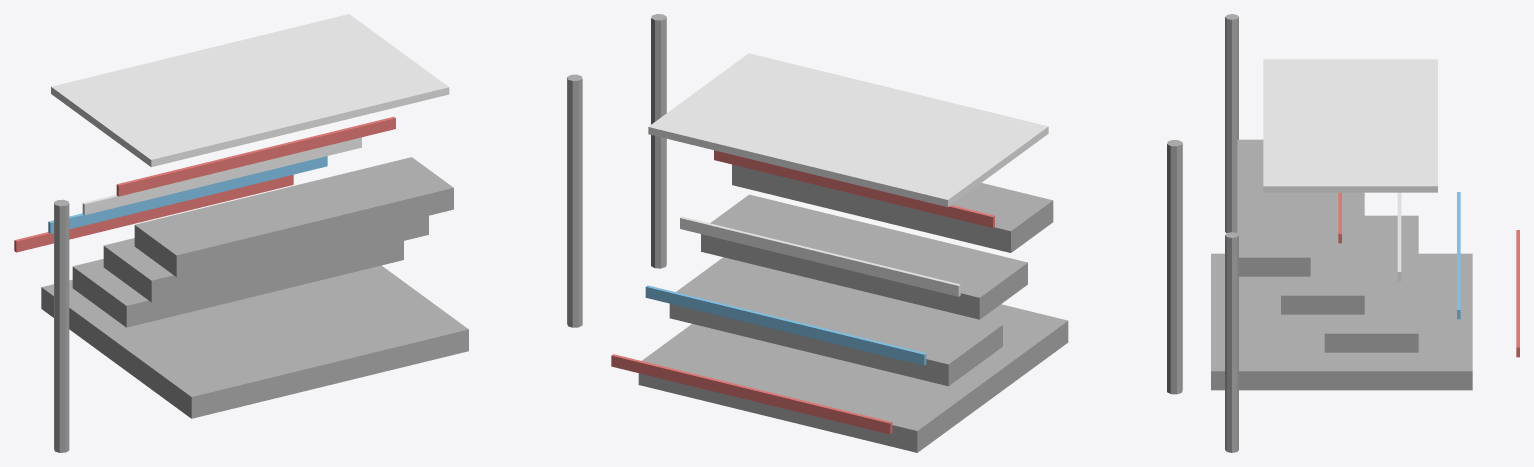
The model's file is grandstand.glb.
The picture shows the model from 3 angles, left to right: view 1: azimuth 30°, elevation 25°; view 2: azimuth 150°, elevation 25°; view 3: azimuth 270°, elevation 25°; orthographic projection. The views are drawn at different scales.
Visible parts, largest first — view 1: grandstand; view 2: grandstand; view 3: grandstand.
Boxes of the visible parts, box(x1,y1,x2,y2) form: grandstand: box(14, 14, 582, 452); grandstand: box(611, 14, 1182, 452); grandstand: box(1211, 14, 1519, 452).
Bounding box in the file's own units: 7.6 × 3.45 × 4.42.
